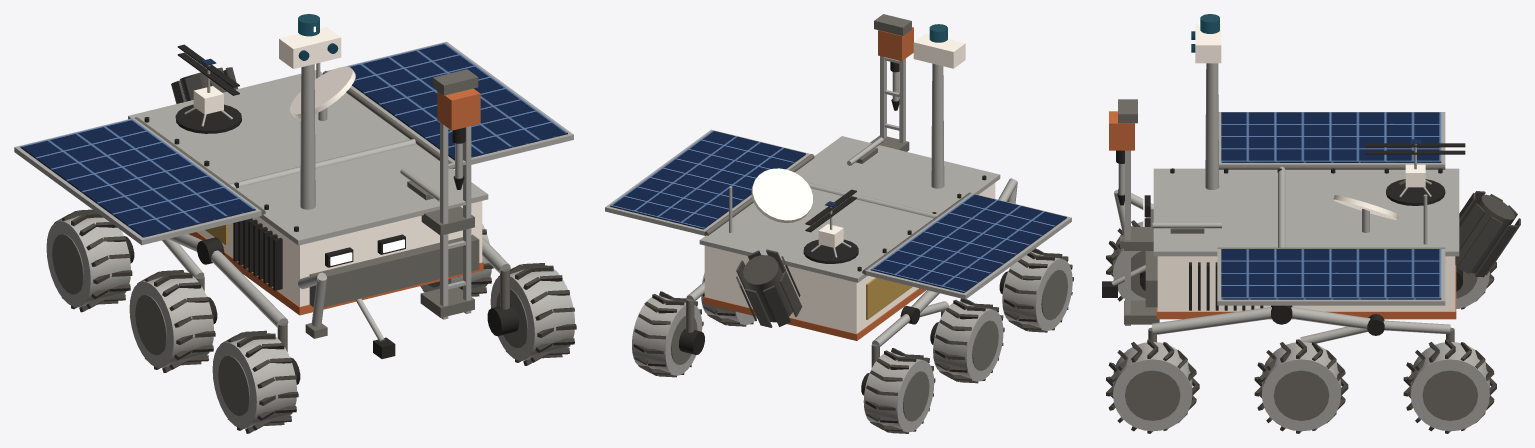
The picture shows the model from 3 angles, left to right: view 1: azimuth 30°, elevation 25°; view 2: azimuth 150°, elevation 25°; view 3: azimuth 270°, elevation 25°; orthographic projection. The views are drawn at different scales.
Parts seen in each view (by area): view 1: object 3, object 57, object 60, rueda_0, rueda_1, rueda_2, rueda_3, object 2, object 31, object 56, object 39, object 59 (+17 smaller); view 2: object 3, object 57, object 60, object 2, rueda_2, rueda_1, rueda_0, rueda_5, object 44, object 56, object 39, object 47 (+17 smaller); view 3: object 3, object 60, object 57, rueda_4, rueda_5, rueda_3, object 2, object 59, object 39, object 4, object 114, object 47 (+24 smaller).
Boxes of the visible parts, left/top/right/bottom form: object 3: left=128, top=70, right=488, bottom=245; object 57: left=20, top=119, right=255, bottom=237; object 60: left=348, top=43, right=567, bottom=160; rueda_0: left=212, top=330, right=298, bottom=433; rueda_1: left=129, top=270, right=215, bottom=372; rueda_2: left=46, top=209, right=132, bottom=312; rueda_3: left=490, top=263, right=576, bottom=365; object 2: left=198, top=201, right=482, bottom=306; object 31: left=309, top=234, right=479, bottom=307; object 56: left=14, top=118, right=261, bottom=245; object 39: left=300, top=64, right=315, bottom=209; object 59: left=327, top=41, right=573, bottom=168; object 3: left=699, top=136, right=1000, bottom=282; object 57: left=870, top=194, right=1066, bottom=292; object 60: left=610, top=130, right=805, bottom=229; object 2: left=704, top=183, right=995, bottom=333; rueda_2: left=863, top=348, right=935, bottom=433; rueda_1: left=933, top=298, right=1004, bottom=383; rueda_0: left=1002, top=248, right=1073, bottom=332; rueda_5: left=632, top=291, right=703, bottom=377; object 44: left=751, top=168, right=812, bottom=222; object 56: left=865, top=193, right=1071, bottom=299; object 39: left=931, top=63, right=944, bottom=188; object 47: left=743, top=255, right=792, bottom=322; object 3: left=1153, top=168, right=1459, bottom=256; object 60: left=1221, top=249, right=1441, bottom=299; object 57: left=1221, top=112, right=1441, bottom=162; rueda_4: left=1254, top=339, right=1348, bottom=433; rueda_5: left=1403, top=339, right=1496, bottom=433; rueda_3: left=1106, top=339, right=1199, bottom=433; object 2: left=1157, top=256, right=1455, bottom=311; object 59: left=1217, top=248, right=1445, bottom=305; object 39: left=1205, top=63, right=1219, bottom=189; object 4: left=1156, top=265, right=1456, bottom=319; object 114: left=1152, top=307, right=1271, bottom=334; object 47: left=1455, top=194, right=1514, bottom=273.
Bounding box in the file's own units: 4.51 × 3.6 × 4.22.
Materials: 12 (1 with a texture image).
